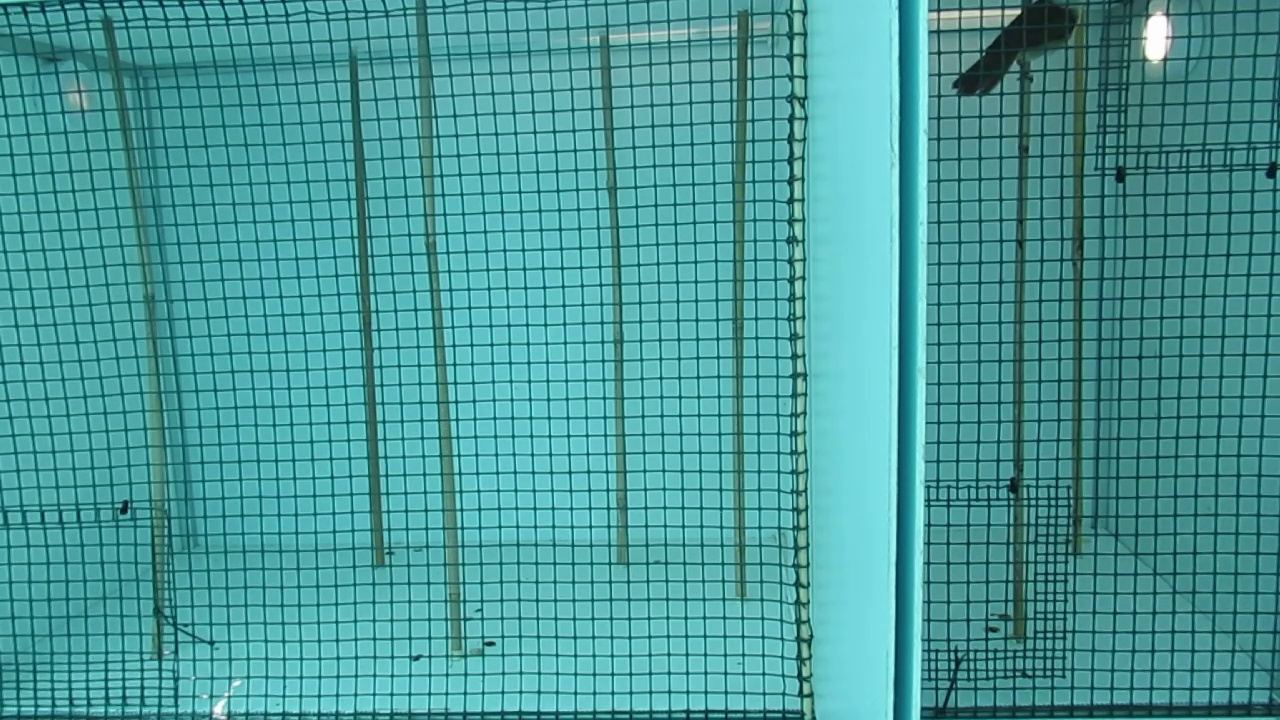bird: (953, 2, 1081, 88)
stick: (99, 18, 170, 654), (415, 4, 465, 653), (347, 56, 388, 567), (598, 39, 631, 566), (1011, 7, 1036, 642), (734, 13, 752, 597), (1071, 6, 1087, 558)
